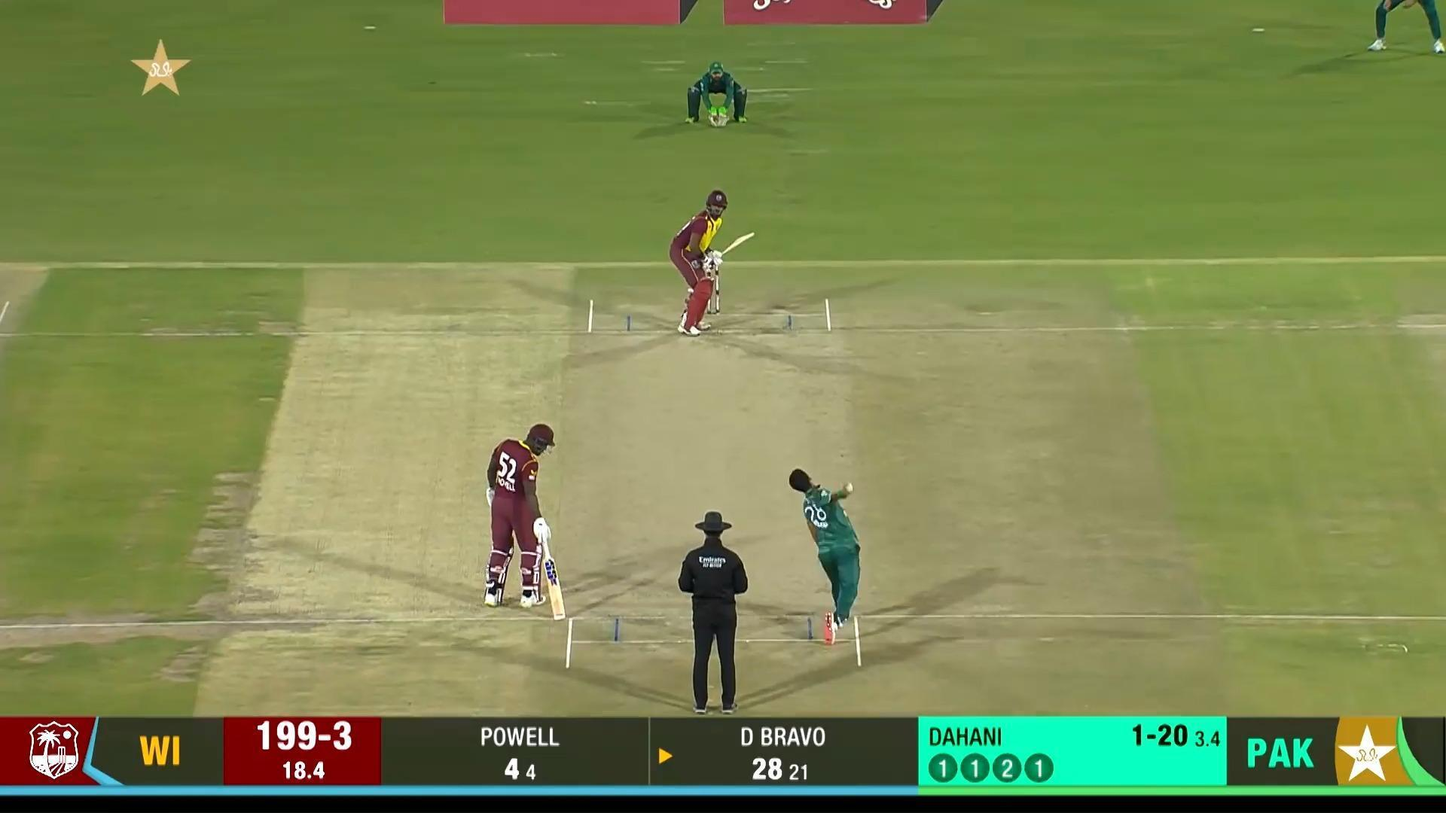BM 1: (668, 188, 756, 339)
BO: (789, 468, 861, 645)
